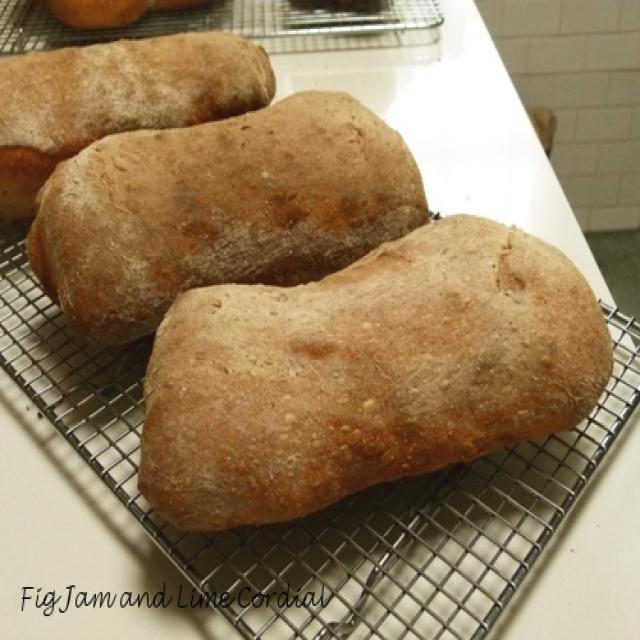Ciabatta: (138, 215, 612, 529), (27, 92, 428, 343), (3, 32, 275, 217)
